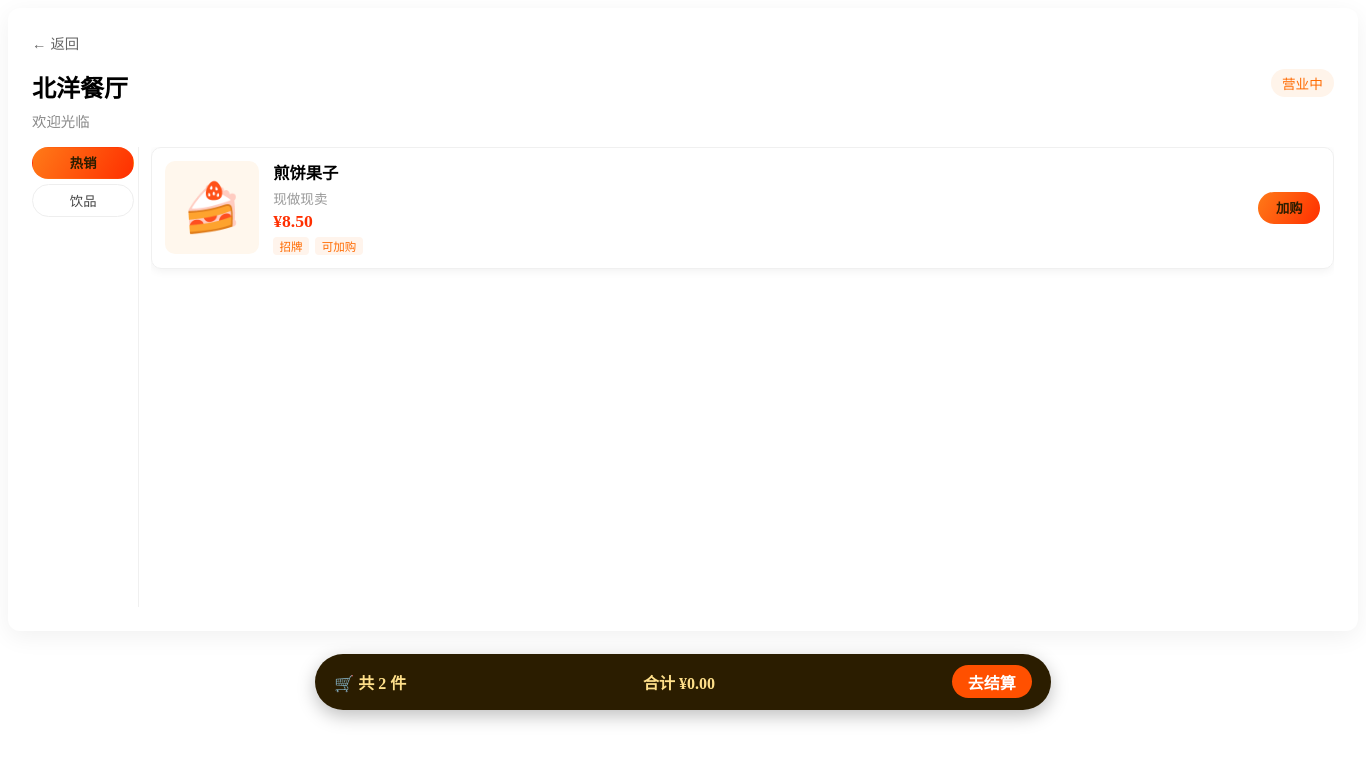
Scenario: 店铺页（顾客点单） › 本店购物车里有不可购买商品时禁止结算
The width and height of the screenshot is (1366, 768).
Click the element with test id "shop-cart-bar" at (683, 682), box [315,654,1051,710]
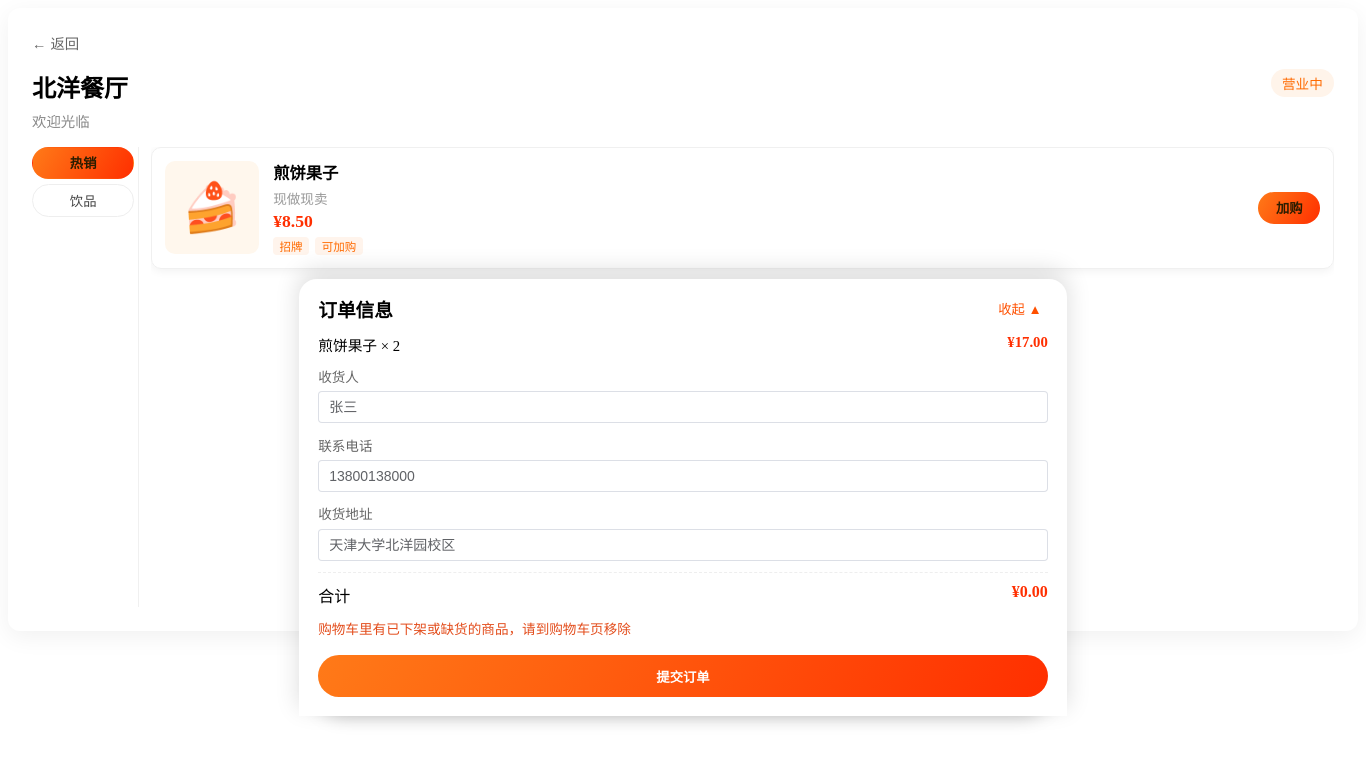
expect the button with test id "shop-checkout" is disabled: met, box [318,655,1048,697]
